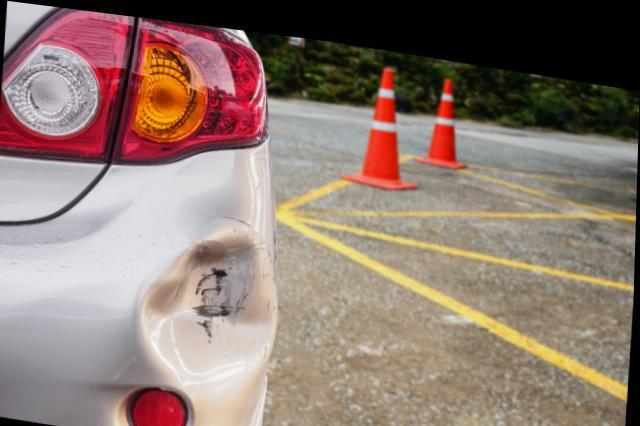dent: (142, 224, 279, 391)
